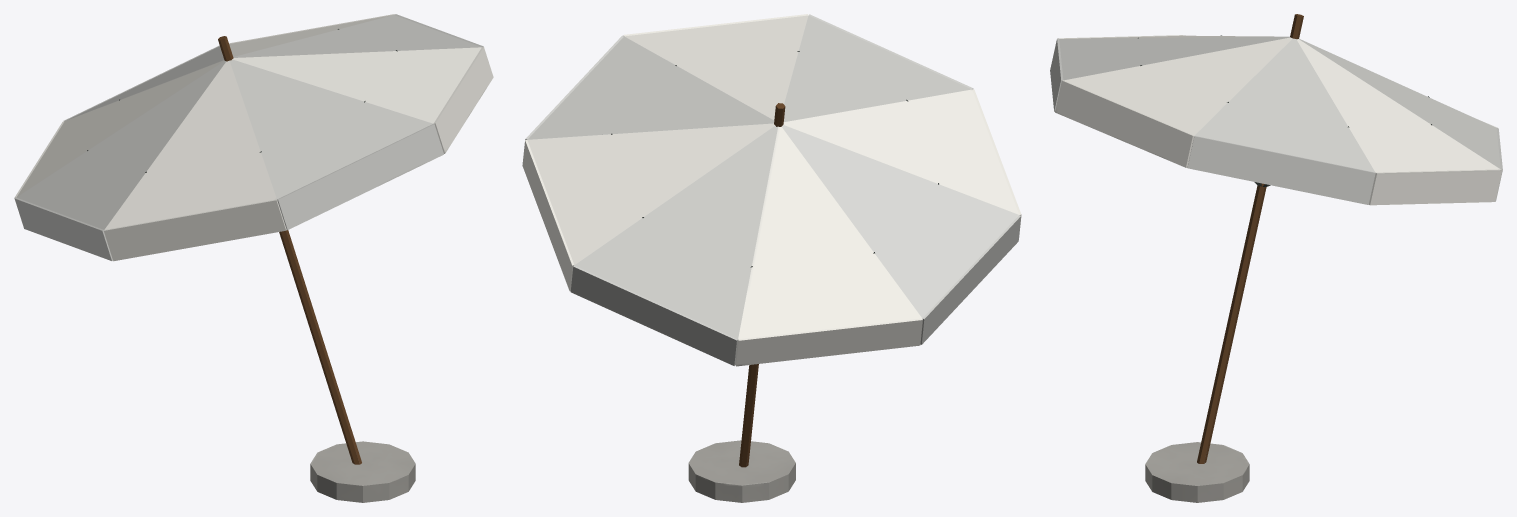
Rendered from slunecnik_0b1bf186.glb.
3 renders of one model, left to right at view 1: azimuth 30°, elevation 25°; view 2: azimuth 150°, elevation 25°; view 3: azimuth 270°, elevation 25°, orthographic. The views are drawn at different scales.
Parts seen in each view (by area): view 1: dum; view 2: dum; view 3: dum.
Part boxes in pixels (x1,y1,x2,y2): dum: (14,14,493,502); dum: (522,14,1021,502); dum: (1050,14,1502,502).
Size of the model in its own units: 2.43 by 2.51 by 2.43.
1 material, 1 textured.
